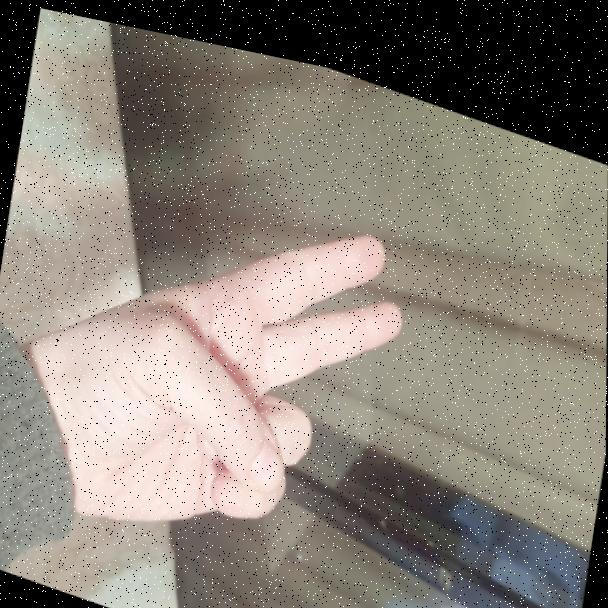two: (79, 127, 421, 584)
